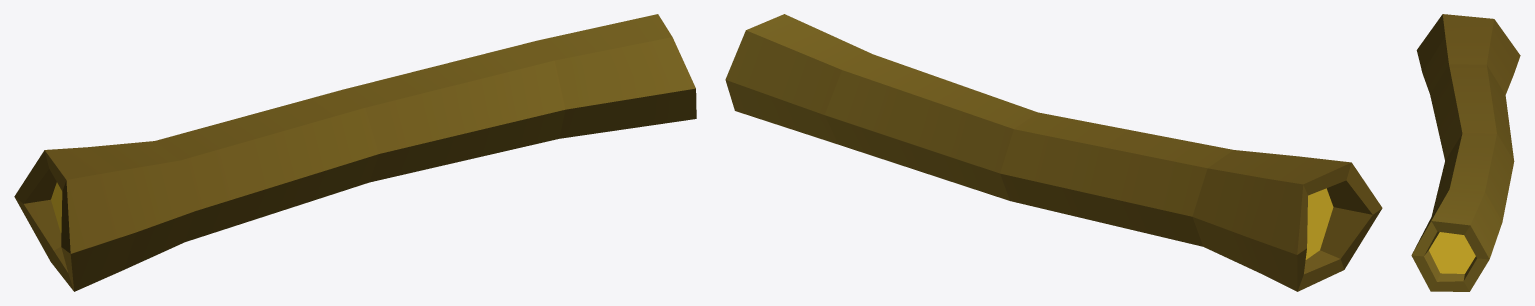
The model's file is log_1.fbx.
The picture shows the model from 3 angles, left to right: view 1: azimuth 30°, elevation 25°; view 2: azimuth 150°, elevation 25°; view 3: azimuth 270°, elevation 25°; orthographic projection. The views are drawn at different scales.
Parts seen in each view (by area): view 1: log_1; view 2: log_1; view 3: log_1.
Boxes of the visible parts, <box> form: log_1: <box>14,14,696,291</box>; log_1: <box>725,14,1382,291</box>; log_1: <box>1411,14,1520,291</box>.
Bounding box in the file's own units: 3.04 × 0.5309 × 0.6297.
